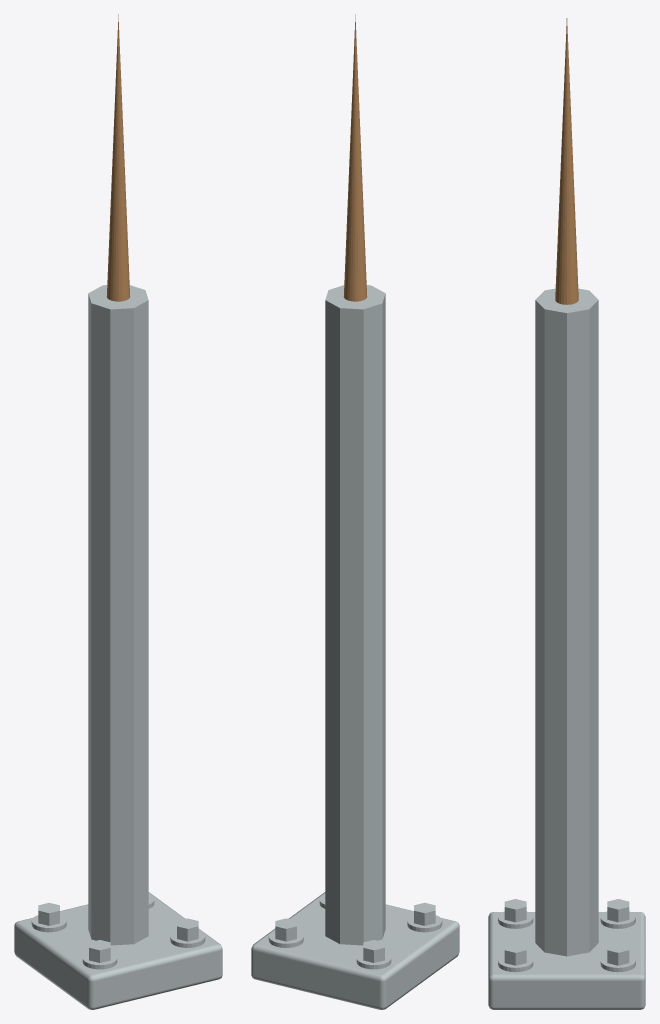
The model's file is broadcast-tower-and-relay-station-broadcast-tower-and--fb5ba972__30258.glb.
3 views of the same model, side by side, from view 1: azimuth 30°, elevation 25°; view 2: azimuth 150°, elevation 25°; view 3: azimuth 270°, elevation 25° (orthographic).
Parts seen in each view (by area): view 1: broadcast-tower-and-relay-station-lightning-rod; view 2: broadcast-tower-and-relay-station-lightning-rod; view 3: broadcast-tower-and-relay-station-lightning-rod.
Part boxes in pixels (<box>): broadcast-tower-and-relay-station-lightning-rod: <box>14,14,222,1009</box>; broadcast-tower-and-relay-station-lightning-rod: <box>251,14,459,1009</box>; broadcast-tower-and-relay-station-lightning-rod: <box>488,18,645,1009</box>.
Bounding box in the file's own units: 0.1999 × 1.35 × 0.1999.
